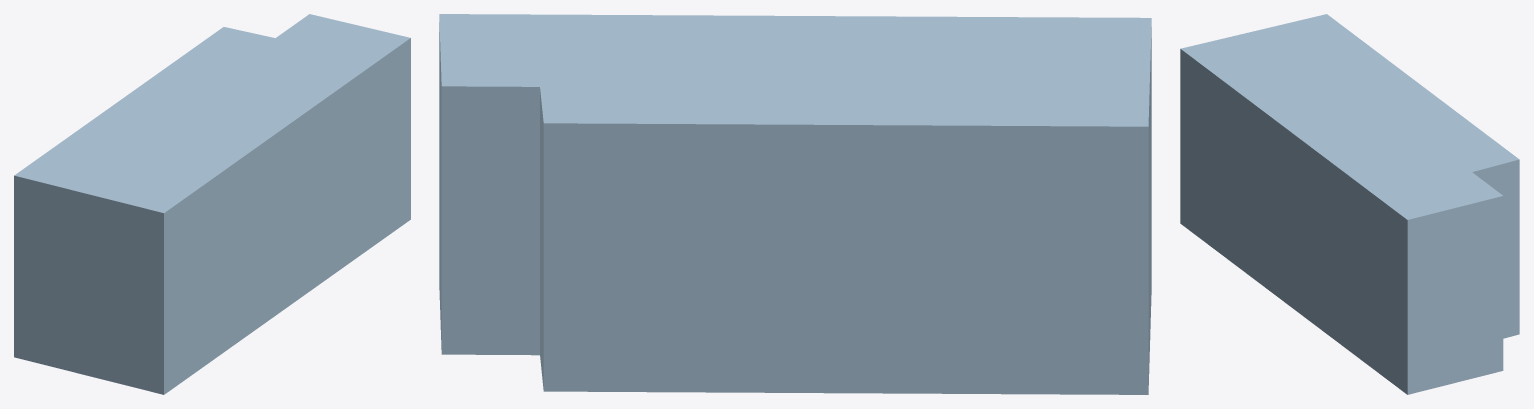
Rendered from osm_way_1173057054.glb.
3 views of the same model, side by side, from view 1: azimuth 30°, elevation 25°; view 2: azimuth 150°, elevation 25°; view 3: azimuth 270°, elevation 25° (orthographic). The views are drawn at different scales.
Parts seen in each view (by area): view 1: osm_way_1173057054; view 2: osm_way_1173057054; view 3: osm_way_1173057054.
Part boxes in pixels (x1,y1,x2,y2): osm_way_1173057054: (14,14,410,394); osm_way_1173057054: (439,14,1151,394); osm_way_1173057054: (1180,14,1519,394).
Bounding box in the file's own units: 56.07 × 22.2 × 39.
